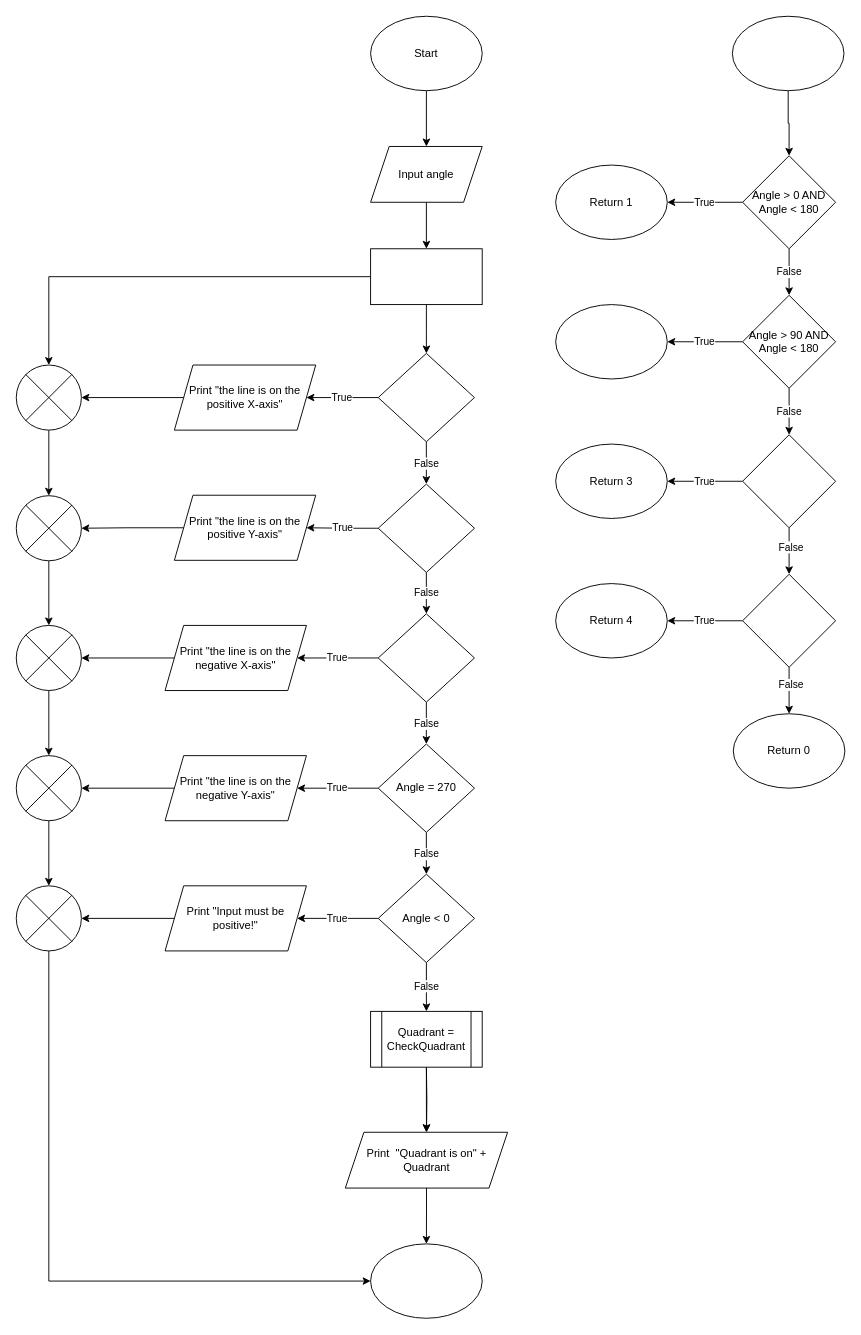
The diagram is 861 pixels wide and 1335 high, and some of its shapes have lost their labels. The shapes that lost their labels are listed below. From the top down, each one's box as (x1, y1, x2, y2) in pixels, then its label:
(731, 15, 844, 91): CheckQuadrant
(370, 248, 482, 305): Angle = Angle % 360
(555, 304, 667, 379): Return 2
(377, 352, 474, 442): Angle = 0
(742, 434, 836, 528): Angle > 180 AND Angle < 270
(377, 483, 474, 572): Angle = 90 OR 360
(742, 573, 836, 667): Angle > 270 AND Angle < 360
(377, 613, 474, 702): Angle = 180
(370, 1243, 482, 1318): End
